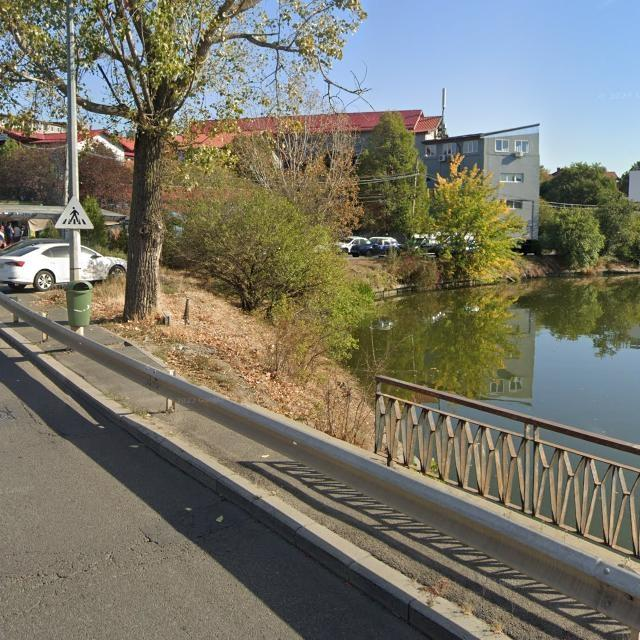warn_crosswalk: (55, 195, 96, 230)
